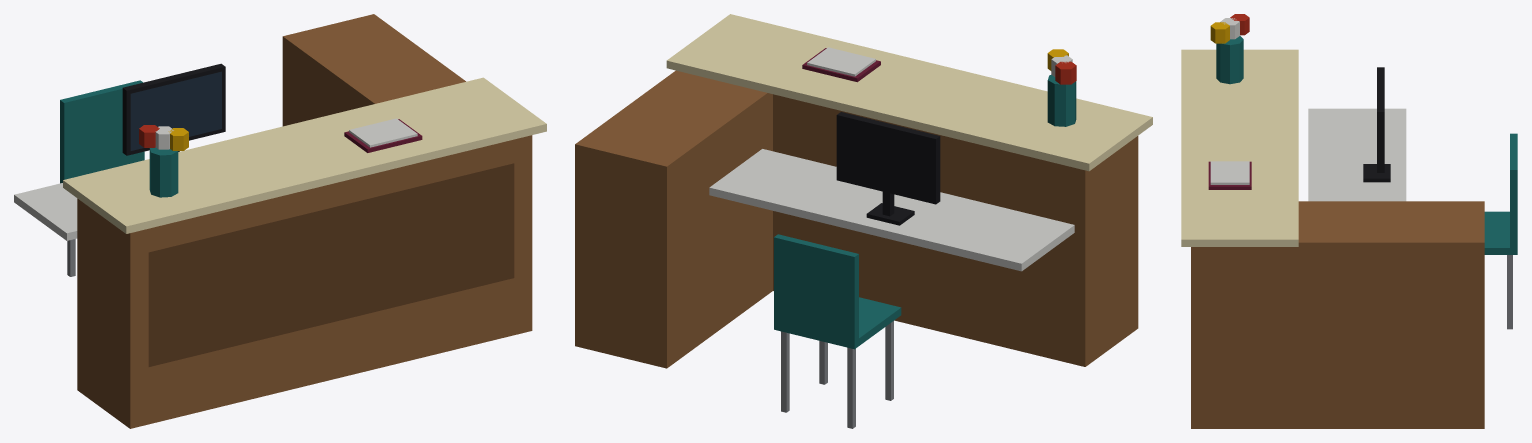
Rendered from prop_reception-desk.glb.
The picture shows the model from 3 angles, left to right: view 1: azimuth 30°, elevation 25°; view 2: azimuth 150°, elevation 25°; view 3: azimuth 270°, elevation 25°; orthographic projection. The views are drawn at different scales.
Visible parts, largest first — view 1: body; view 2: body; view 3: body.
Part boxes in pixels (left/top/right/bottom): body: left=14, top=14, right=546, bottom=428; body: left=575, top=14, right=1152, bottom=428; body: left=1181, top=14, right=1517, bottom=428.
Size of the model in its own units: 2.3 by 1.41 by 1.72.
